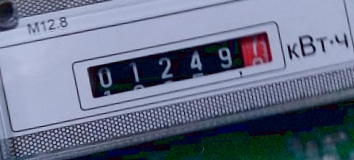0: (93, 61, 114, 88)
1: (125, 57, 142, 84)
2: (154, 53, 176, 80)
4: (186, 44, 206, 73)
7: (245, 32, 262, 57)
9: (215, 42, 235, 68)
screen: (63, 21, 301, 114)
